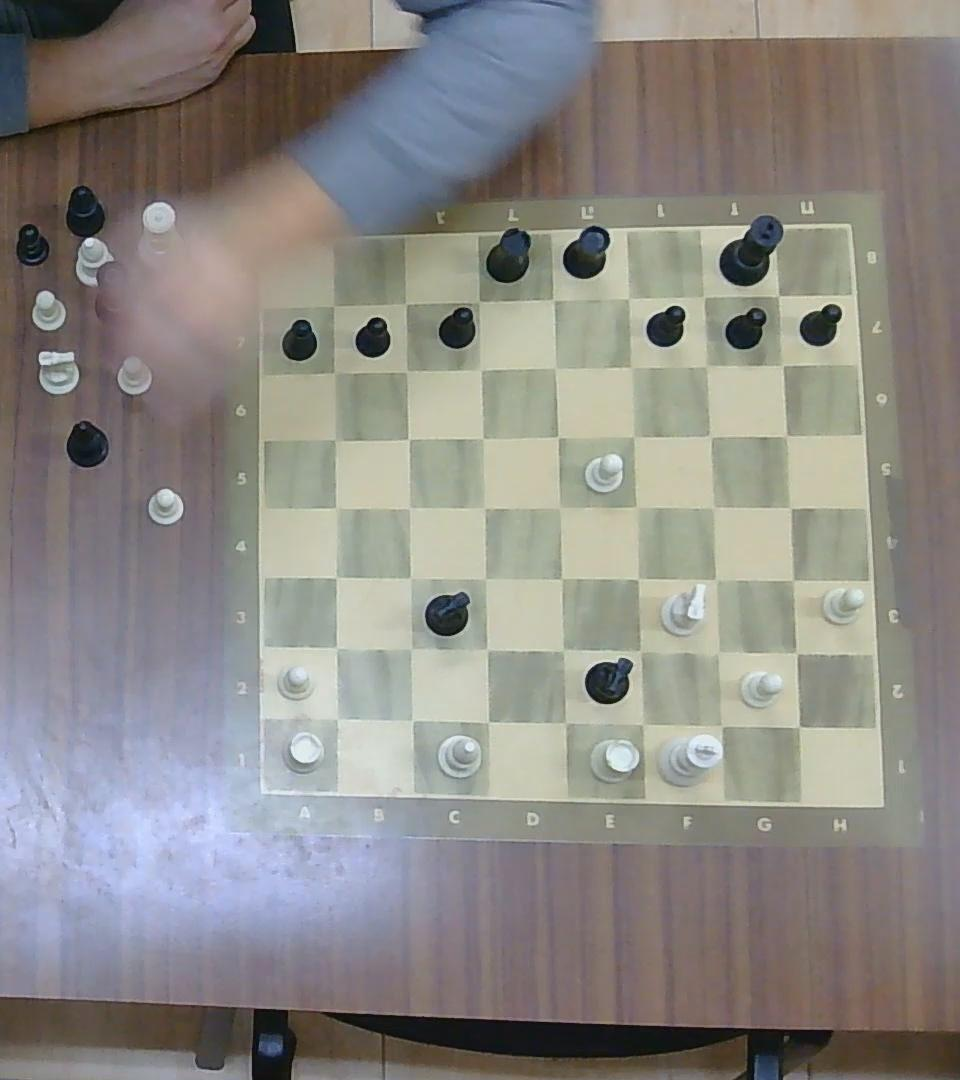xcorner: (624, 705, 659, 739), (702, 707, 737, 740), (781, 710, 815, 743), (701, 636, 735, 669), (548, 706, 580, 738), (624, 635, 656, 667), (470, 633, 502, 665), (547, 633, 578, 665), (780, 637, 812, 668), (396, 703, 427, 734), (320, 701, 351, 732), (394, 632, 425, 663), (470, 563, 501, 594), (622, 563, 652, 594), (471, 705, 502, 735), (547, 563, 577, 594), (700, 563, 730, 594), (776, 564, 807, 593), (320, 562, 350, 591), (698, 493, 728, 522), (545, 493, 574, 522), (622, 491, 651, 520), (321, 633, 350, 662), (776, 491, 805, 520), (470, 492, 499, 520), (467, 422, 495, 451), (543, 421, 572, 449), (619, 421, 648, 449), (616, 352, 645, 380), (538, 284, 566, 313), (393, 425, 422, 452), (692, 352, 721, 379), (395, 494, 423, 521), (395, 563, 423, 590), (322, 494, 350, 521), (696, 422, 723, 448), (542, 353, 569, 379), (615, 285, 641, 311), (322, 426, 348, 451), (467, 355, 493, 380), (773, 421, 798, 446), (393, 357, 419, 381), (466, 288, 491, 312), (393, 290, 418, 313), (691, 285, 715, 308), (770, 352, 793, 376), (322, 294, 345, 316), (767, 284, 790, 306), (323, 360, 346, 382)
